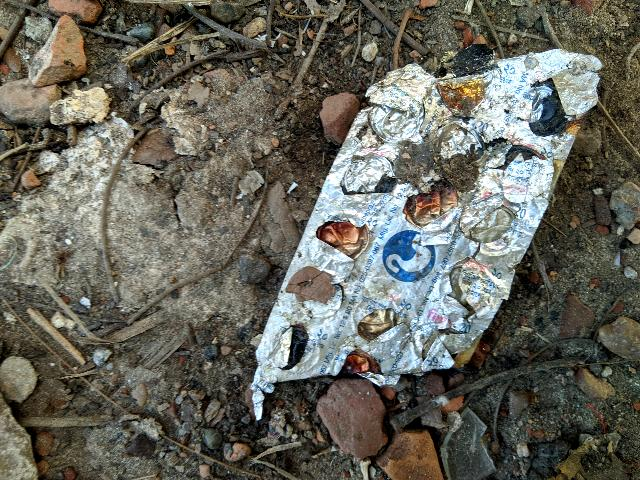medicine: (235, 0, 594, 464)
